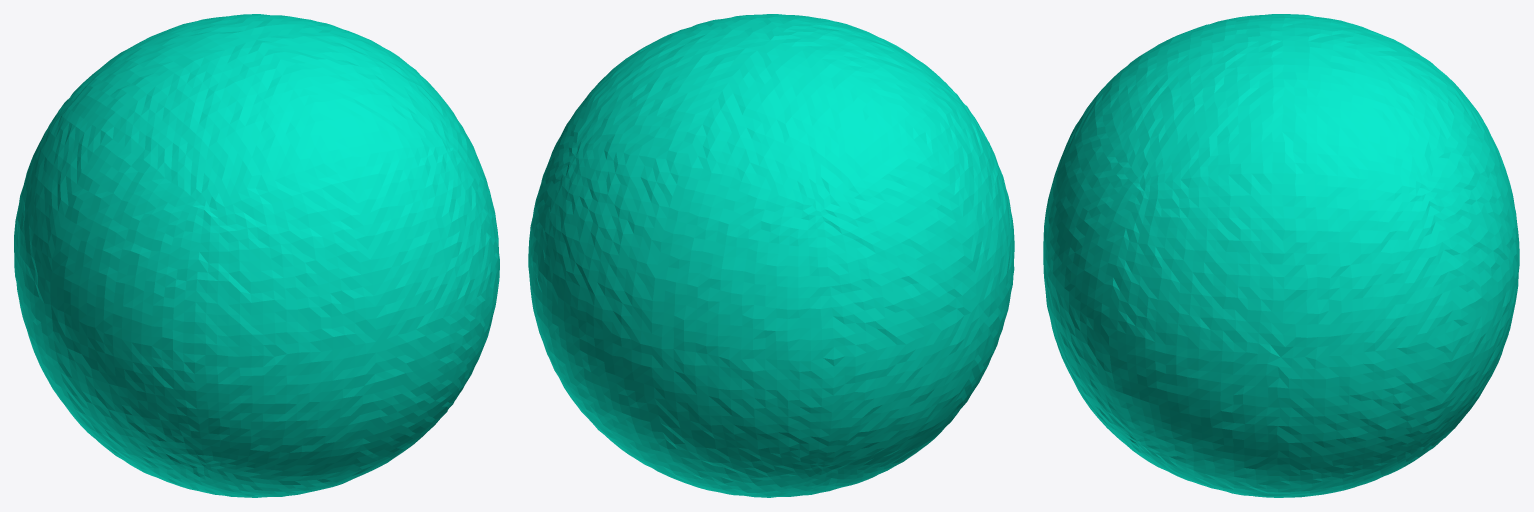
Rendered from Sea05.fbx.
3 renders of one model, left to right at view 1: azimuth 30°, elevation 25°; view 2: azimuth 150°, elevation 25°; view 3: azimuth 270°, elevation 25°, orthographic.
Visible parts, largest first — view 1: pCube1; view 2: pCube1; view 3: pCube1.
Boxes of the visible parts, x1,y1,x2,y2 form: pCube1: [14, 14, 499, 497]; pCube1: [528, 14, 1014, 497]; pCube1: [1043, 14, 1519, 497].
Bounding box in the file's own units: 40.49 × 40.53 × 40.48.
